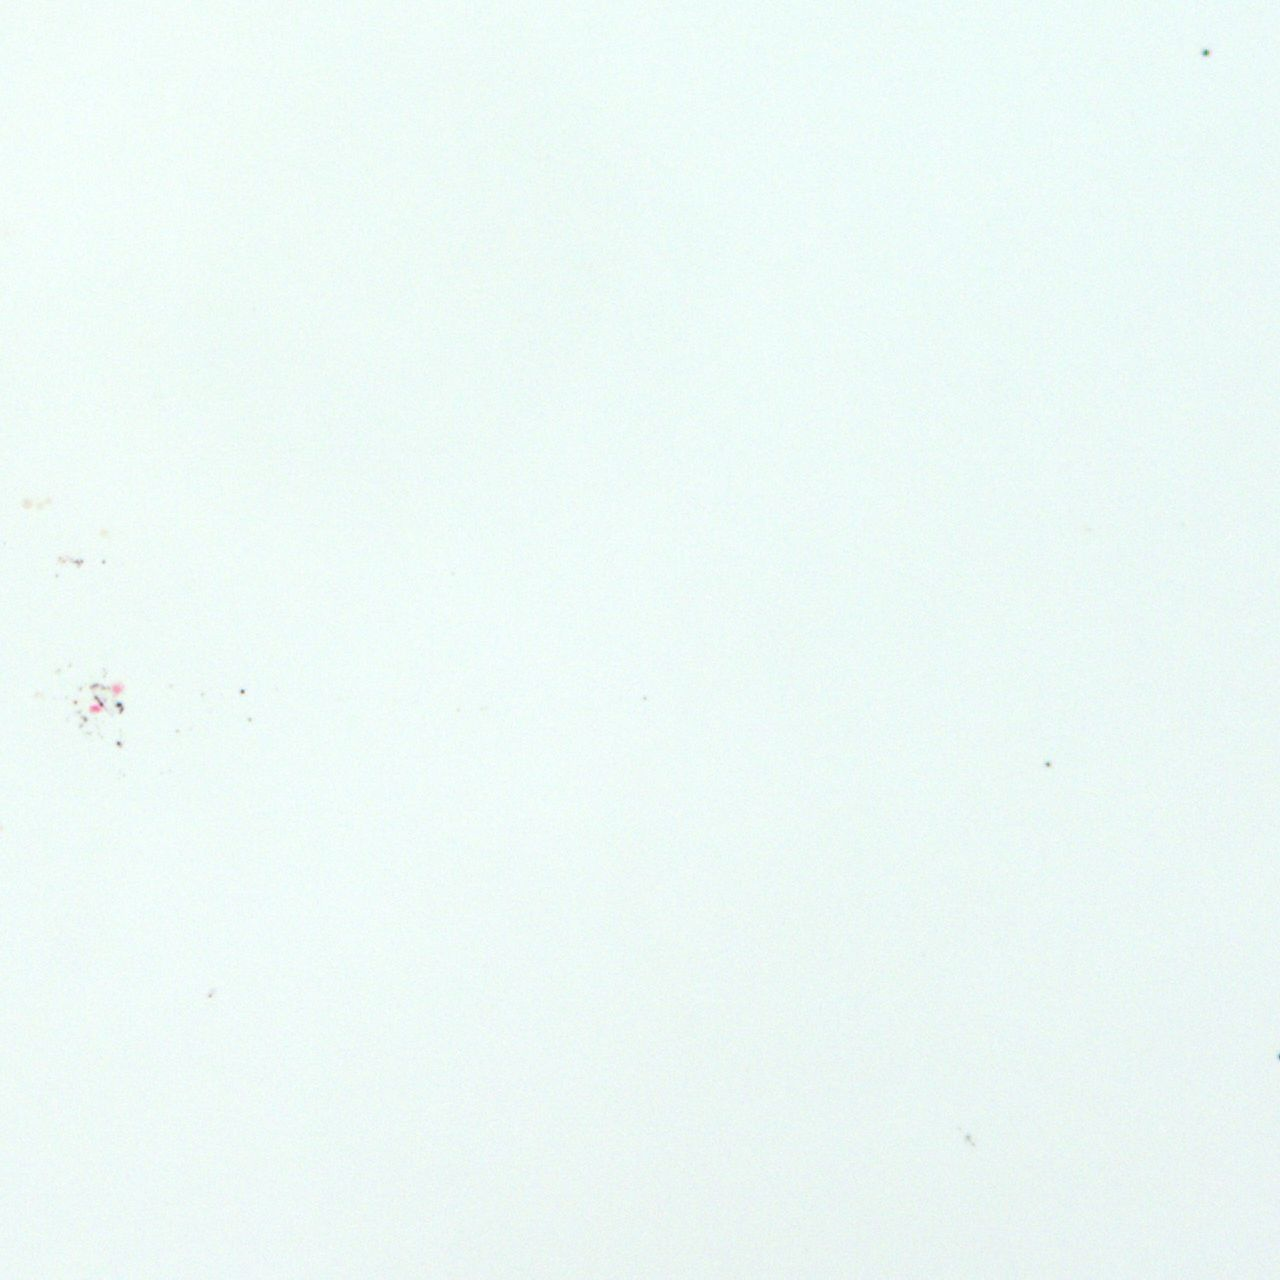dust: (91, 694, 104, 708), (73, 555, 85, 568), (961, 1131, 972, 1143), (1042, 758, 1053, 768), (88, 682, 100, 691), (57, 555, 70, 563), (1200, 48, 1210, 58), (99, 683, 110, 692), (101, 558, 109, 567), (114, 740, 122, 748), (206, 990, 214, 998), (118, 707, 125, 715), (83, 731, 91, 738), (78, 684, 84, 693), (52, 571, 59, 578), (239, 688, 247, 694), (174, 727, 180, 734), (74, 709, 82, 714), (80, 715, 86, 721), (77, 723, 83, 729), (72, 699, 78, 705), (246, 716, 251, 722), (641, 695, 647, 700), (66, 662, 71, 667), (116, 701, 122, 705)
